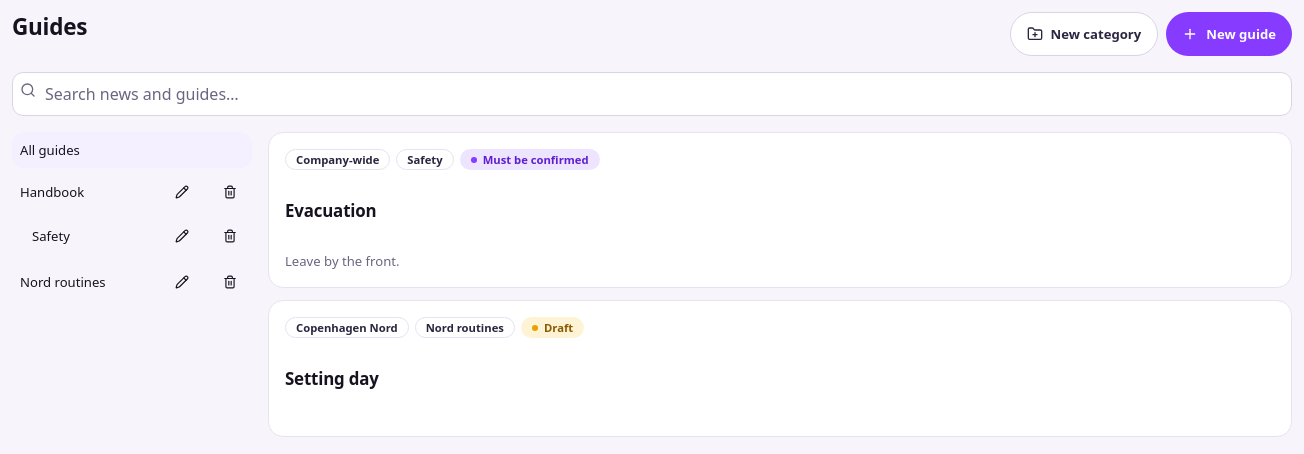
Test: GuidesPage › lists every guide until a category is chosen, then only that branch
The image size is (1304, 454).
Expected: the link "Evacuation" is shown, x1=285 y1=199 x2=376 y2=222
Expected: the link "Setting day" is shown, x1=285 y1=367 x2=379 y2=390
What coordinates should you click on to do the following:
click the button "Handbook"
I would click on:
 (84, 192)
Its box is x1=12 y1=174 x2=156 y2=210.
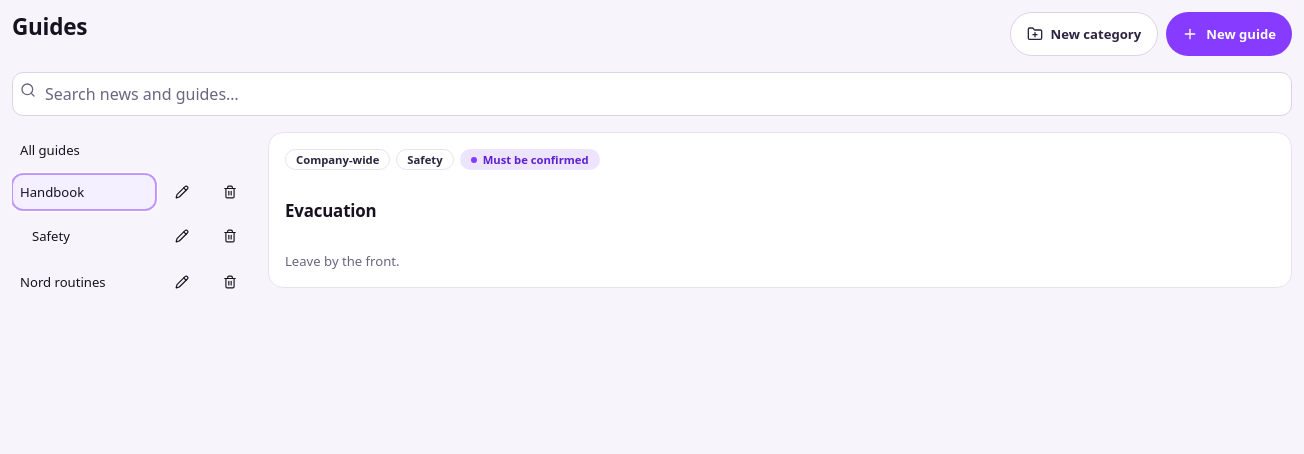
Expected: the link "Evacuation" is shown, x1=285 y1=199 x2=376 y2=222
Expected: the link "Setting day" is gone
